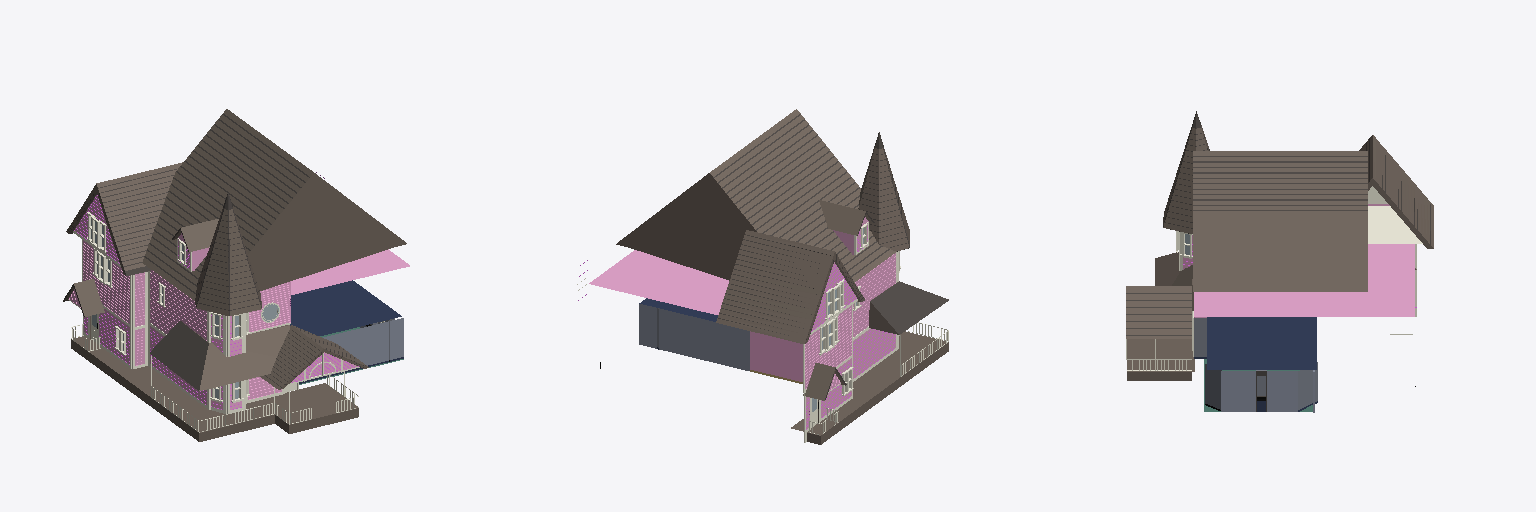
3 views of the same model, side by side, from view 1: azimuth 30°, elevation 25°; view 2: azimuth 150°, elevation 25°; view 3: azimuth 270°, elevation 25° (orthographic).
Parts seen in each view (by area): view 1: Plane.045, Plane.044, Plane.051, Plane.165, Plane.043, Plane.180, Plane.040, Plane.173, Plane.172, Plane.177, Plane.175, Plane.042 (+10 smaller); view 2: Plane.045, Plane.044, Plane.175, Plane.181, Plane.043, Plane.165, Plane.040, Plane.051, Plane.185, Plane.042, Plane.046, Plane.001 (+3 smaller); view 3: Plane.045, Plane.175, Plane.180, Plane.044, Plane.172, Plane.178, Plane.173, Plane.165, Plane.051, Plane.192, Plane.183, Plane.190.
Part boxes in pixels (x1,y1,x2,y2): Plane.045: (142,109,406,300); Plane.044: (66,162,182,275); Plane.051: (150,321,289,390); Plane.165: (195,193,261,315); Plane.043: (71,336,229,441); Plane.180: (290,280,401,335); Plane.040: (148,270,210,409); Plane.173: (257,383,358,433); Plane.172: (260,325,368,389); Plane.177: (299,318,403,383); Plane.175: (291,249,409,294); Plane.042: (82,239,131,327); Plane.045: (616,109,895,282); Plane.044: (716,230,864,343); Plane.175: (589,250,728,314); Plane.181: (639,304,749,370); Plane.043: (791,335,948,444); Plane.165: (858,132,909,251); Plane.040: (853,251,898,381); Plane.051: (869,281,948,334); Plane.185: (750,331,802,383); Plane.042: (803,305,852,392); Plane.046: (819,200,874,235); Plane.001: (810,262,857,334); Plane.045: (1193,151,1367,291); Plane.175: (1194,244,1414,316); Plane.180: (1207,317,1316,369); Plane.044: (1359,135,1433,248); Plane.172: (1126,286,1191,338); Plane.178: (1221,370,1297,411); Plane.173: (1127,339,1194,380); Plane.165: (1163,111,1209,233); Plane.051: (1155,252,1193,310); Plane.192: (1298,362,1317,411); Plane.183: (1205,364,1221,410); Plane.190: (1194,318,1206,358).
Size of the model in its own units: 5.62 by 4.8 by 5.98.
Materials: 16 (14 with a texture image).